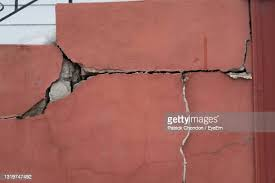crack: (0, 41, 97, 120), (96, 67, 253, 79), (177, 71, 191, 181), (239, 0, 254, 68)
